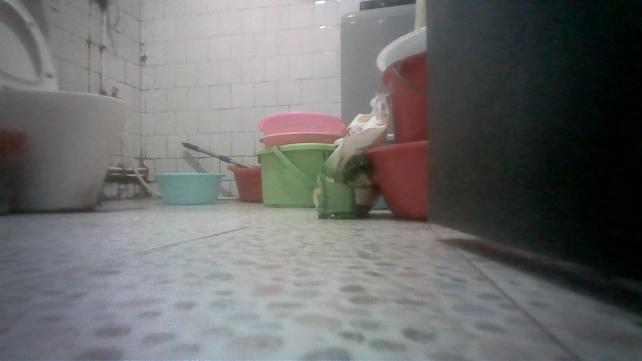toilet: (8, 5, 125, 215)
